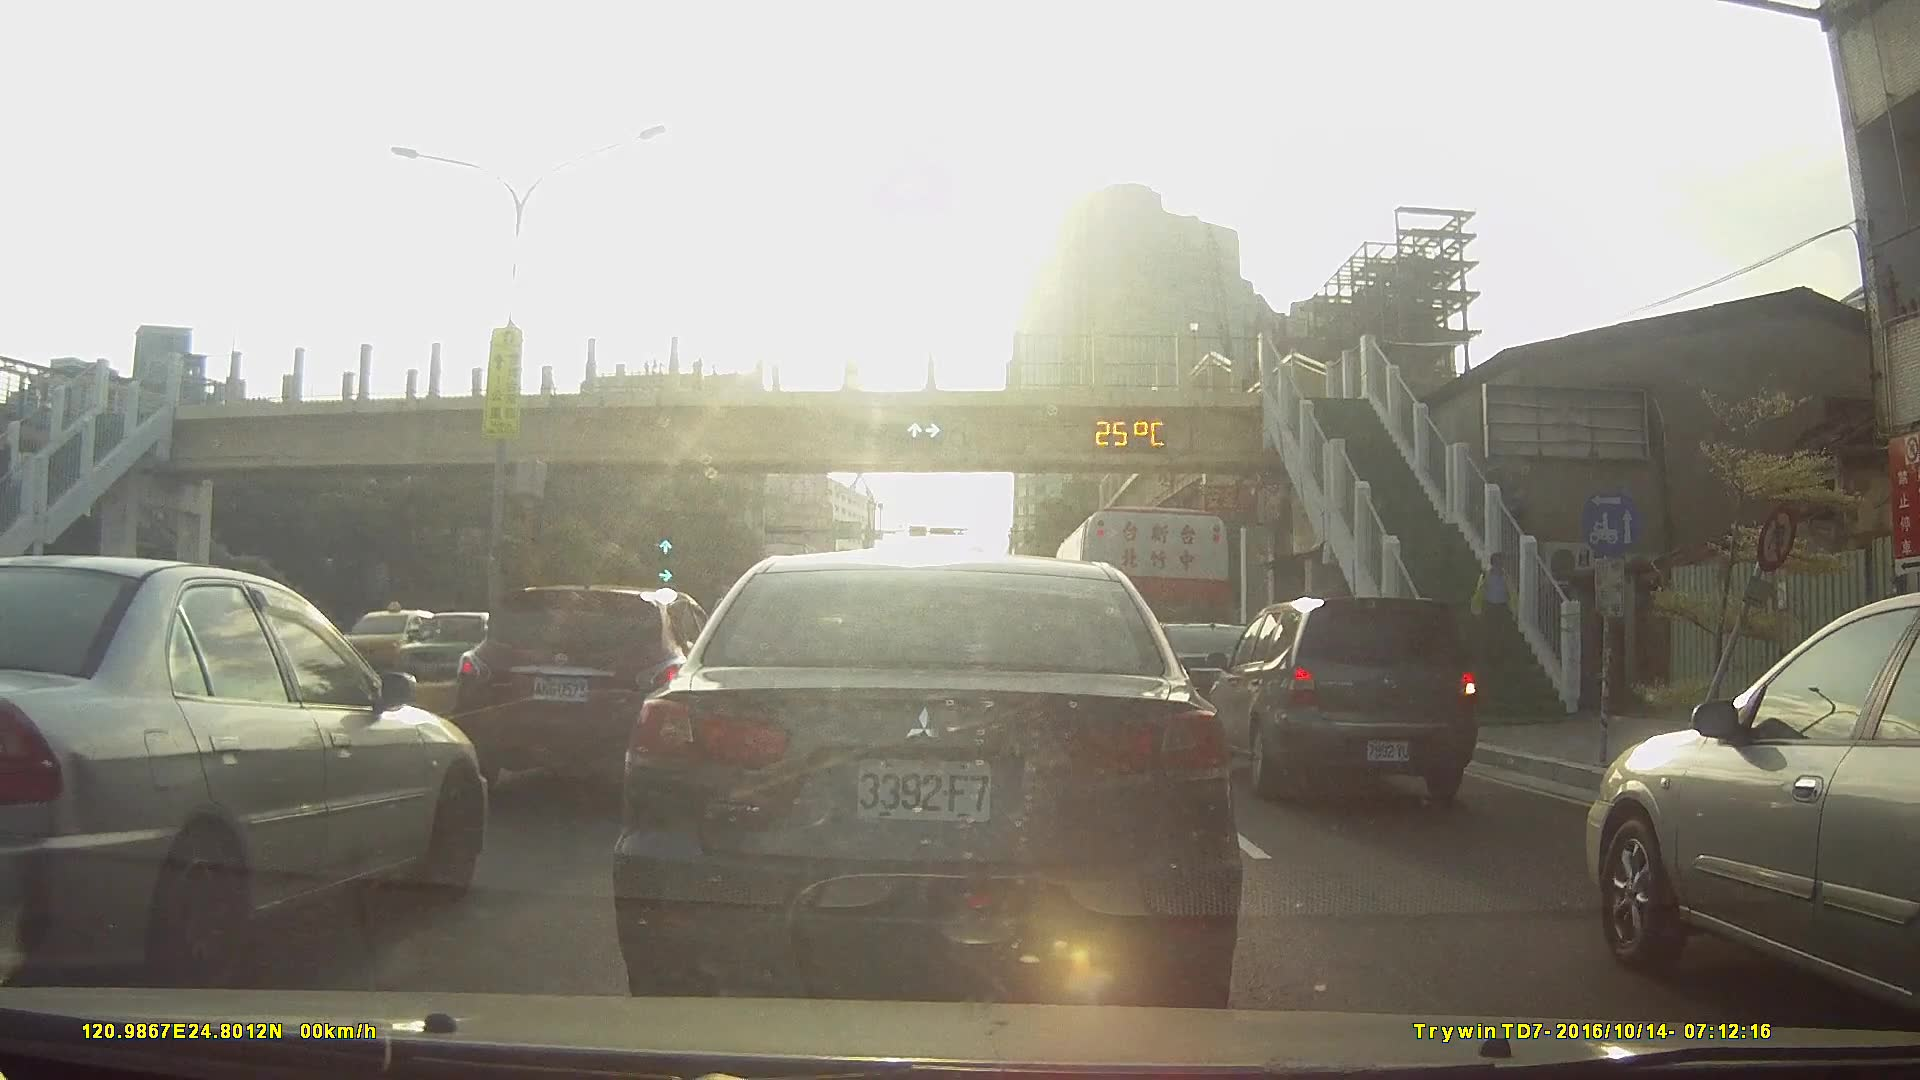pedestrian: (1472, 551, 1520, 657)
vehicle: (610, 552, 1245, 1005), (1, 556, 495, 985), (1574, 586, 1920, 1059), (1202, 595, 1491, 802), (457, 583, 732, 789), (1098, 615, 1279, 730), (381, 609, 522, 690), (329, 607, 445, 691)
